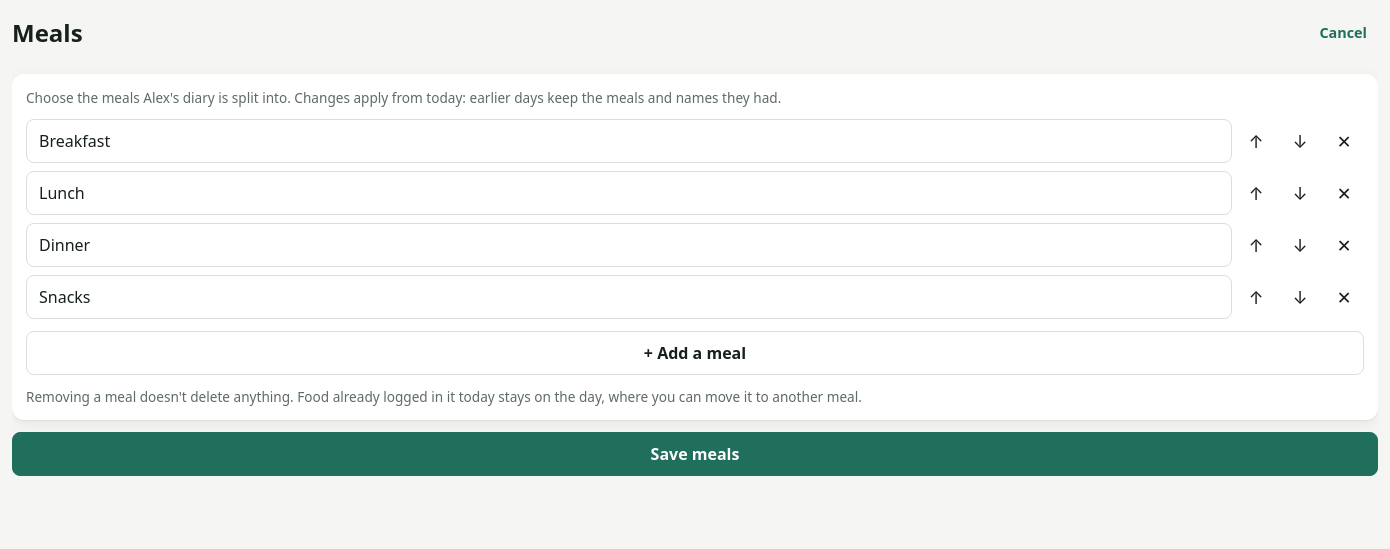
Scenario: MealsPage › asks for a different name instead of saving a duplicate
Step 1. Replace the text in the field showing "Dinner" with "lunch" → (629, 245), box [26,223,1232,267]
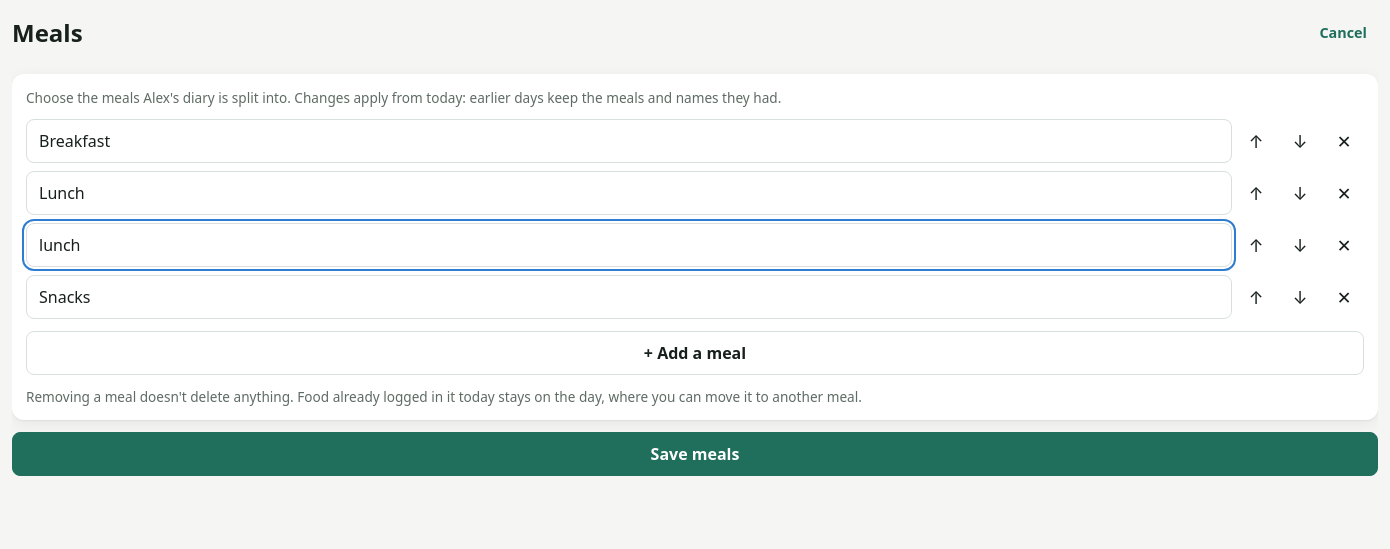
Step 2. Click the button "Save meals" → (695, 454), box [12,432,1378,476]
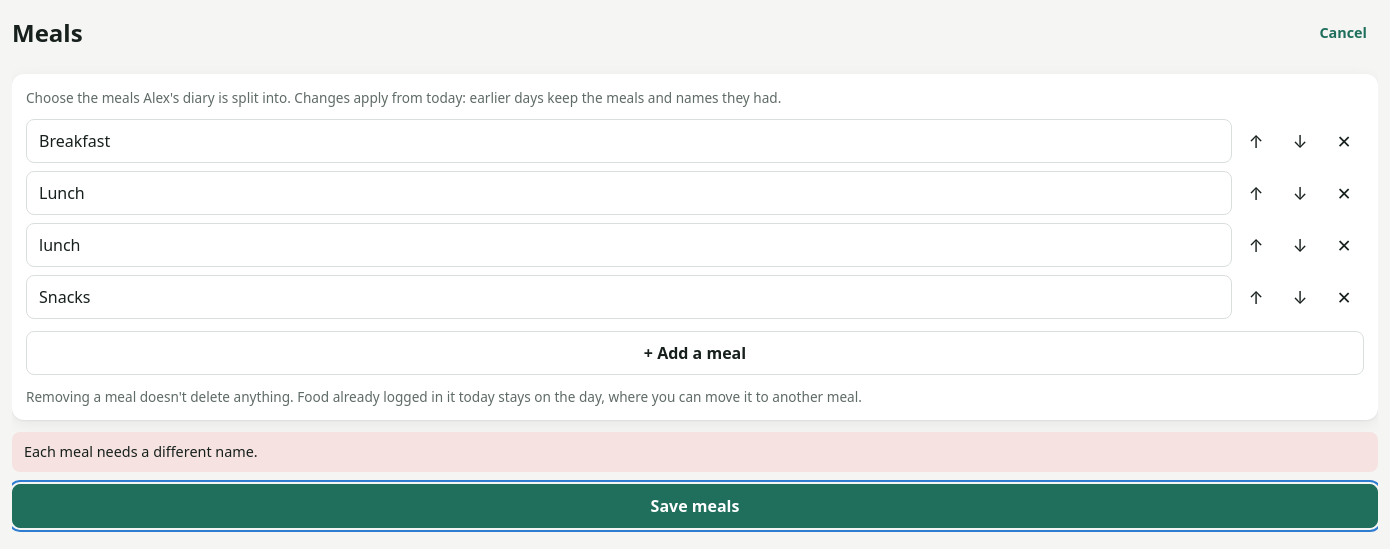
Check: the text "Each meal needs a different name." is shown, box [24,442,258,462]
